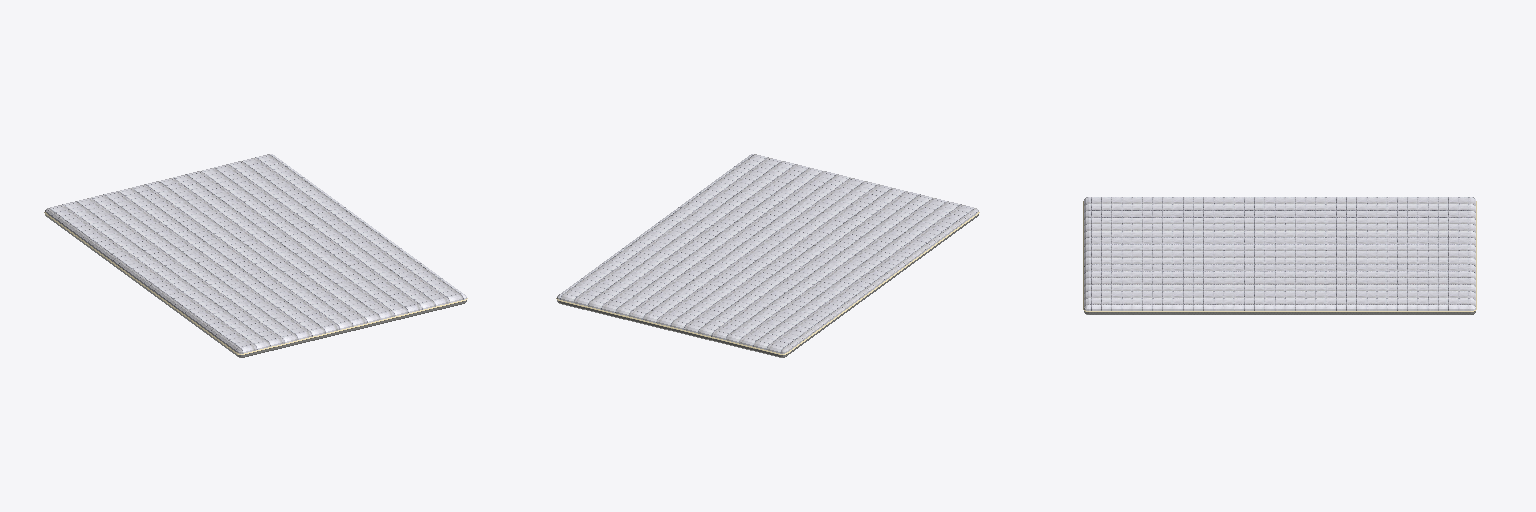
3 renders of one model, left to right at view 1: azimuth 30°, elevation 25°; view 2: azimuth 150°, elevation 25°; view 3: azimuth 270°, elevation 25°, orthographic.
Visible parts, largest first — view 1: mat_check_black; view 2: mat_check_black; view 3: mat_check_black.
Part boxes in pixels (x1,y1,x2,y2): mat_check_black: (44, 154, 467, 357); mat_check_black: (556, 154, 979, 357); mat_check_black: (1083, 197, 1476, 314).
Bounding box in the file's own units: 3.66 × 0.1458 × 5.41.
Materials: 3 (2 with a texture image).